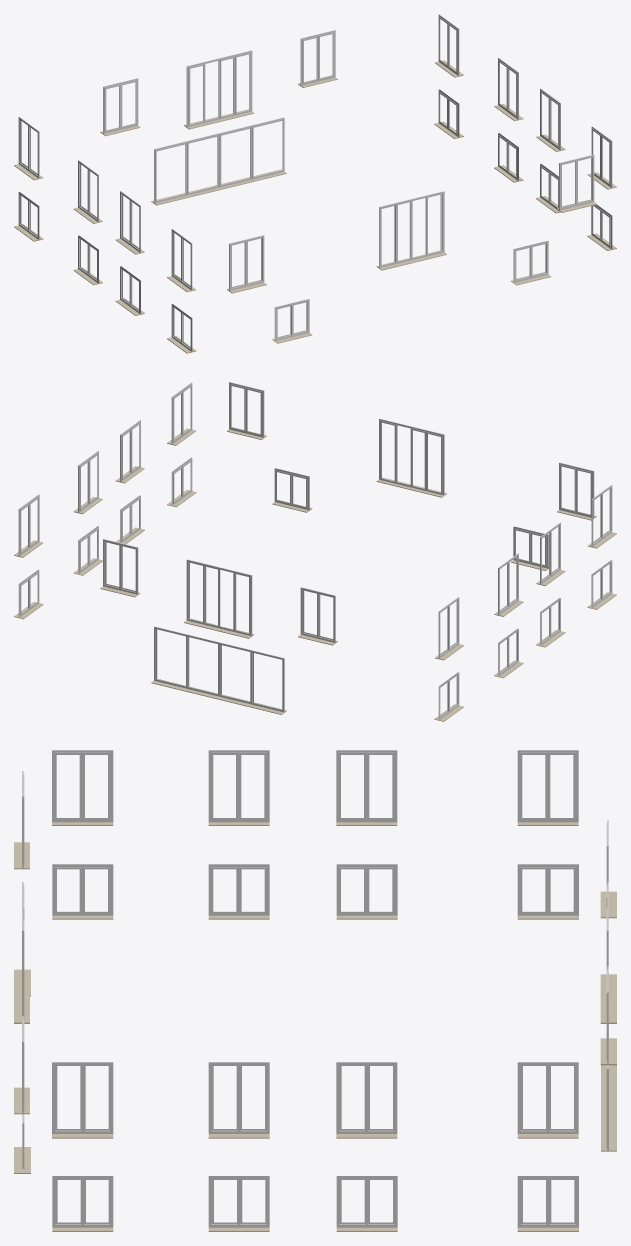
File: Akademik_okna bez klamek01.fbx
3 views of the same model, one above another, from view 1: azimuth 30°, elevation 25°; view 2: azimuth 150°, elevation 25°; view 3: azimuth 270°, elevation 25° (orthographic). The views are drawn at different scales.
Visible parts, largest first — view 1: Group42, Group44, Group34, Group33, Group52, Group40, Group56, Group58; view 2: Group34, Group44, Group42, Group60, Group62, Group33, Group56, Group58; view 3: Group36, Group46, Group48, Group50, Group33, Group7, Group22, Group25, Group31, Group56, Group38, Group54 (+7 smaller).
Boxes of the visible parts, x1=… form: Group42: x1=379, y1=191, x2=444, y2=267; Group44: x1=186, y1=50, x2=252, y2=127; Group34: x1=154, y1=117, x2=284, y2=203; Group33: x1=151, y1=169, x2=286, y2=205; Group52: x1=559, y1=154, x2=594, y2=210; Group40: x1=229, y1=235, x2=264, y2=290; Group56: x1=18, y1=116, x2=39, y2=178; Group58: x1=171, y1=228, x2=192, y2=290; Group34: x1=154, y1=626, x2=284, y2=712; Group44: x1=186, y1=559, x2=252, y2=636; Group42: x1=379, y1=418, x2=444, y2=495; Group60: x1=300, y1=587, x2=335, y2=642; Group62: x1=103, y1=539, x2=138, y2=594; Group33: x1=151, y1=680, x2=286, y2=714; Group56: x1=438, y1=597, x2=459, y2=658; Group58: x1=591, y1=485, x2=612, y2=546; Group36: x1=52, y1=1062, x2=113, y2=1133; Group46: x1=208, y1=1062, x2=269, y2=1133; Group48: x1=336, y1=1062, x2=397, y2=1133; Group50: x1=517, y1=1062, x2=578, y2=1133; Group33: x1=601, y1=1065, x2=616, y2=1151; Group7: x1=52, y1=1176, x2=113, y2=1227; Group22: x1=336, y1=1176, x2=397, y2=1227; Group25: x1=517, y1=1176, x2=578, y2=1227; Group31: x1=208, y1=1176, x2=269, y2=1227; Group56: x1=517, y1=750, x2=578, y2=822; Group38: x1=208, y1=750, x2=269, y2=822; Group54: x1=336, y1=750, x2=397, y2=822.
Bounding box in the file's own units: 19.8 × 5.7 × 15.8.
